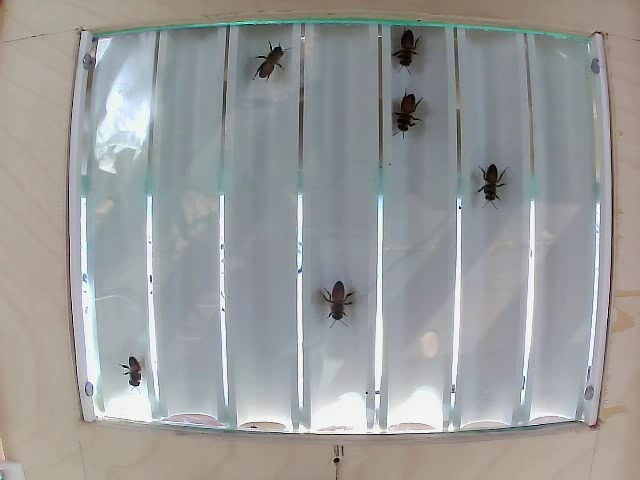bee: (317, 270, 348, 328), (394, 86, 421, 142), (477, 156, 506, 207), (254, 39, 289, 80), (395, 24, 421, 68), (119, 353, 146, 388)
